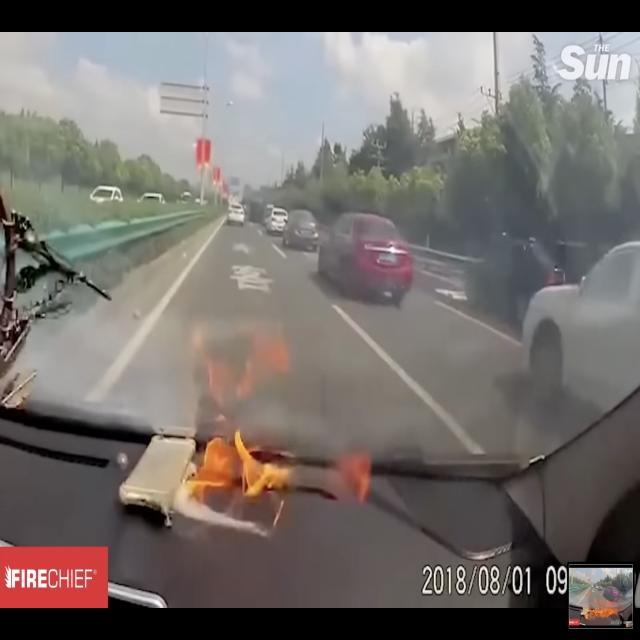Fogo: (112, 282, 386, 568)
